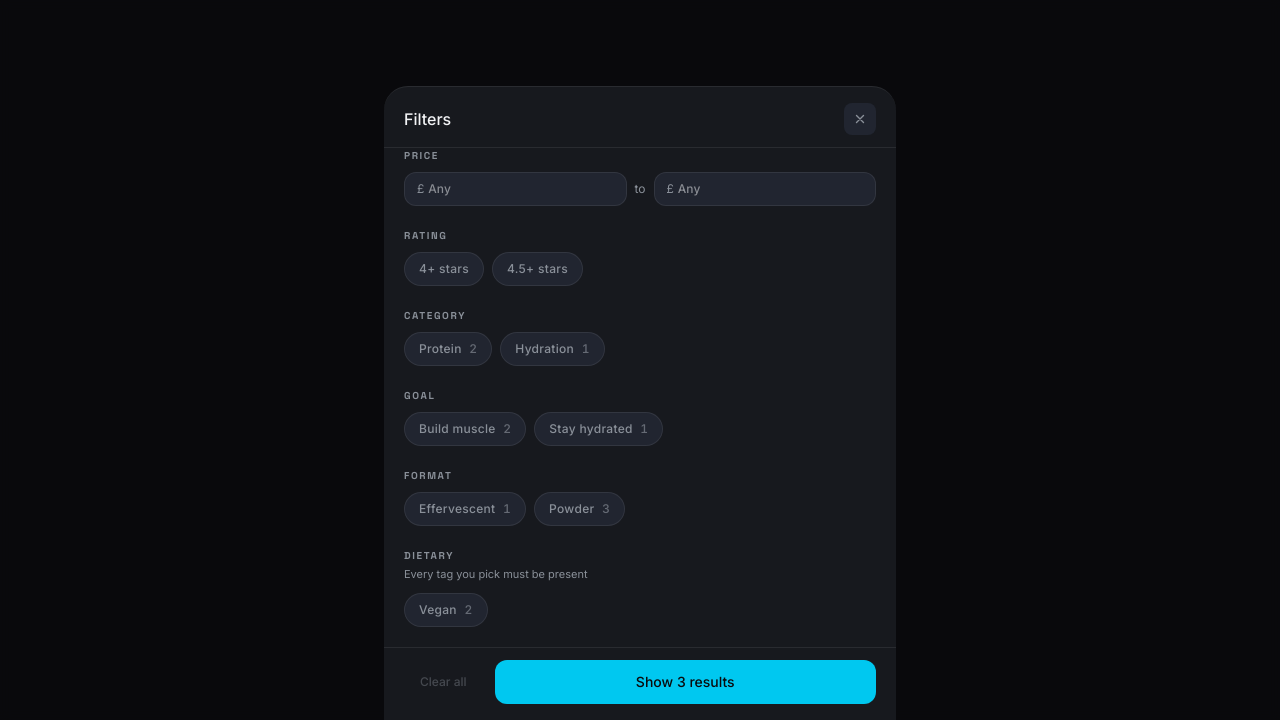
Test: ShopFilterSheet › applies live — the footer count is the feedback, so it must move
(page scrolled)
Expected: the button "Show 3 results" is shown, x1=494 y1=660 x2=876 y2=704
Click the button "Vegan 2" at (446, 610), box x1=404 y1=593 x2=488 y2=627
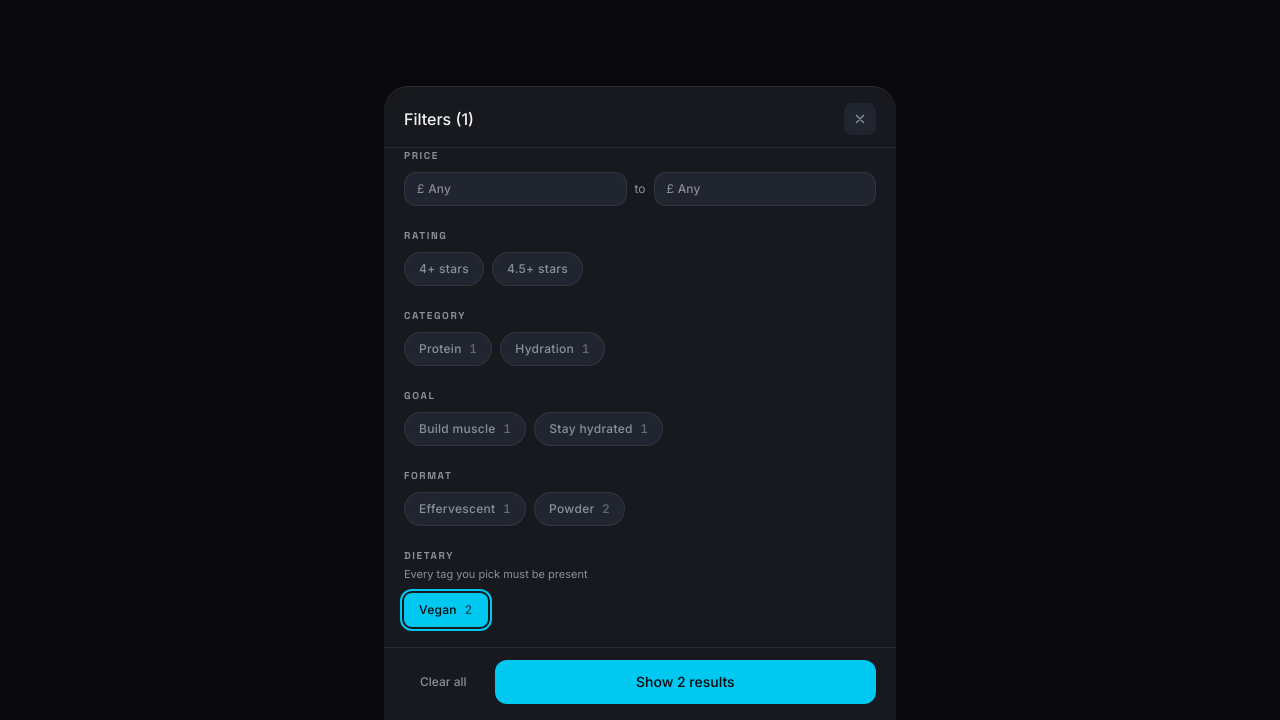
Result: the button "Show 2 results" is shown at x1=494 y1=660 x2=876 y2=704
